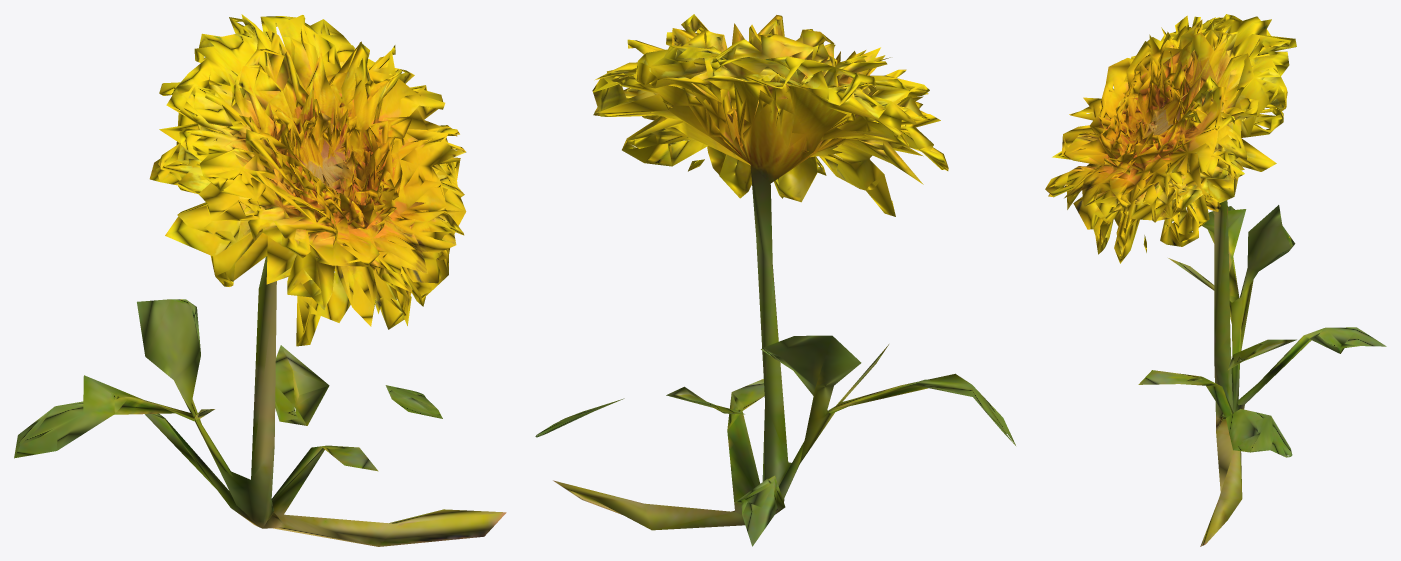
The model's file is diente_de_leon.glb.
The picture shows the model from 3 angles, left to right: view 1: azimuth 30°, elevation 25°; view 2: azimuth 150°, elevation 25°; view 3: azimuth 270°, elevation 25°; orthographic projection. The views are drawn at different scales.
Size of the model in its own units: 1.84 by 1.96 by 1.39.
1 material, 1 textured.
